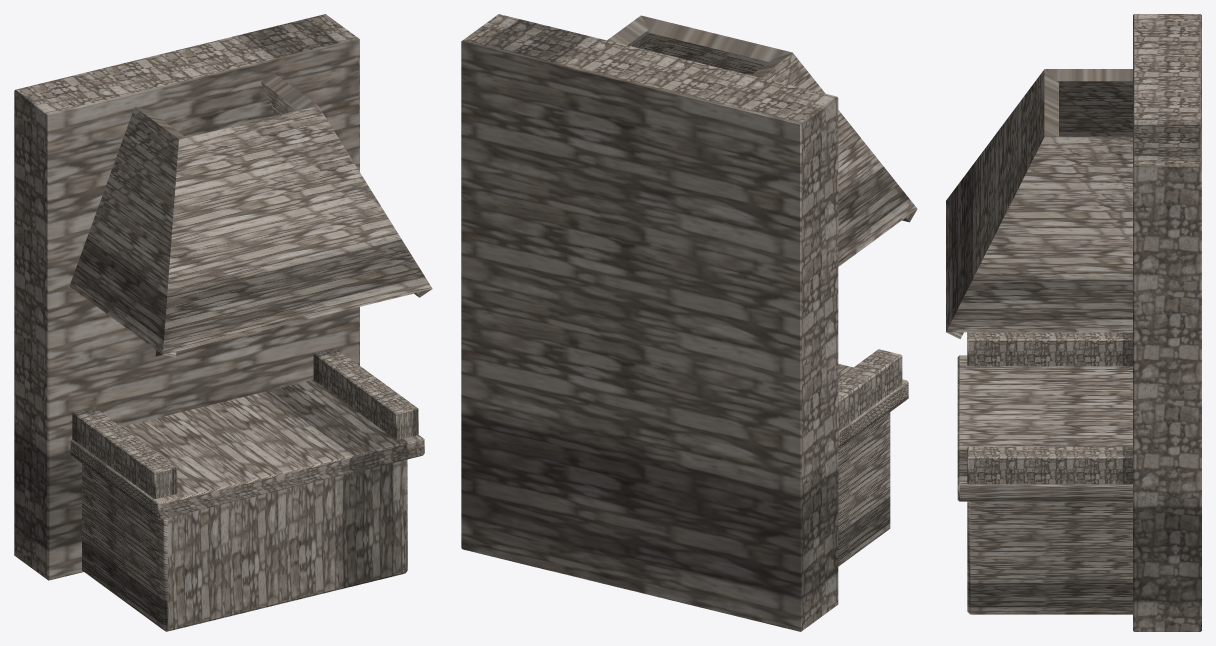
Rendered from BW_Blacksmith01_ForgeMasonry.fbx.
3 renders of one model, left to right at view 1: azimuth 30°, elevation 25°; view 2: azimuth 150°, elevation 25°; view 3: azimuth 270°, elevation 25°, orthographic. The views are drawn at different scales.
Visible parts, largest first — view 1: BW_Blacksmith01_ForgeMasonry; view 2: BW_Blacksmith01_ForgeMasonry; view 3: BW_Blacksmith01_ForgeMasonry.
Boxes of the visible parts, x1,y1,x2,y2 form: BW_Blacksmith01_ForgeMasonry: [14, 14, 432, 631]; BW_Blacksmith01_ForgeMasonry: [461, 14, 917, 631]; BW_Blacksmith01_ForgeMasonry: [946, 14, 1201, 631].
Bounding box in the file's own units: 2.2 × 3.14 × 1.56.
